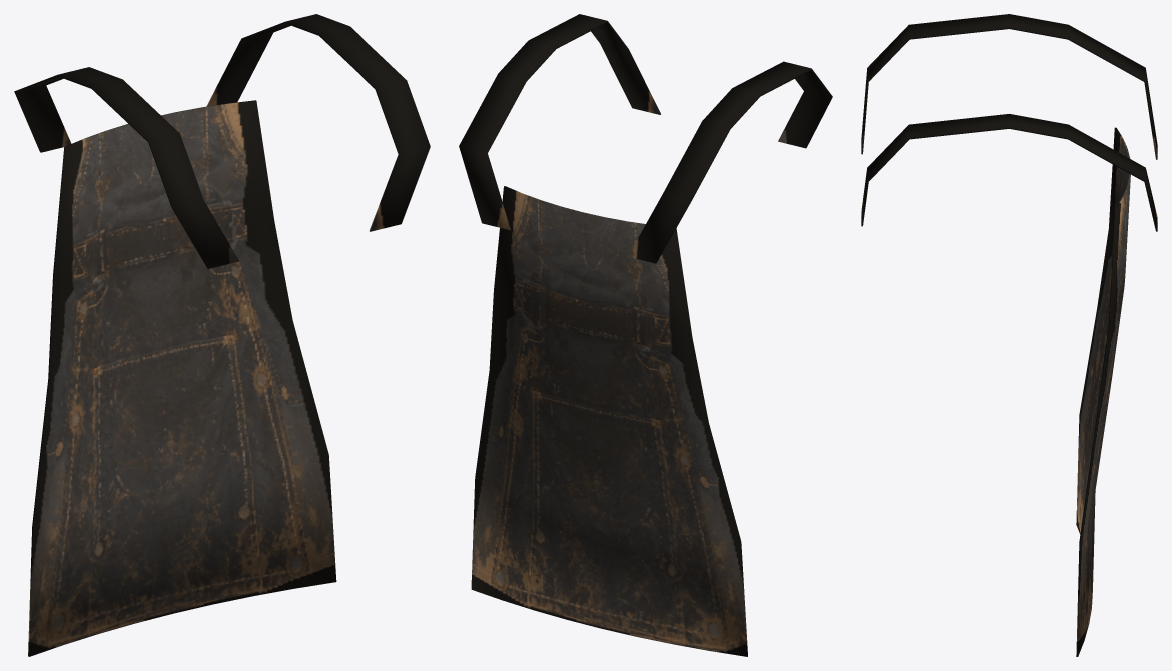
Rendered from gear-fartuk.glb.
3 views of the same model, side by side, from view 1: azimuth 30°, elevation 25°; view 2: azimuth 150°, elevation 25°; view 3: azimuth 270°, elevation 25° (orthographic). The views are drawn at different scales.
Visible parts, largest first — view 1: gear-fartuk; view 2: gear-fartuk; view 3: gear-fartuk.
Part boxes in pixels (left/top/right/bottom): gear-fartuk: left=14, top=14, right=430, bottom=656; gear-fartuk: left=459, top=14, right=832, bottom=656; gear-fartuk: left=861, top=14, right=1157, bottom=656.
Size of the model in its own units: 0.5305 by 0.9755 by 0.503.
1 material, 1 textured.
